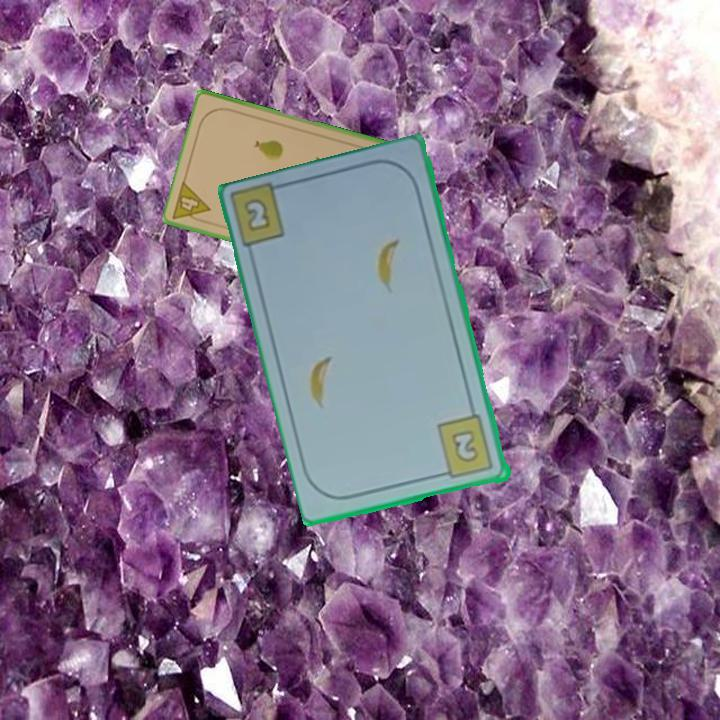2b: (434, 412, 497, 482), (240, 195, 274, 235)
4p: (169, 178, 214, 227)
